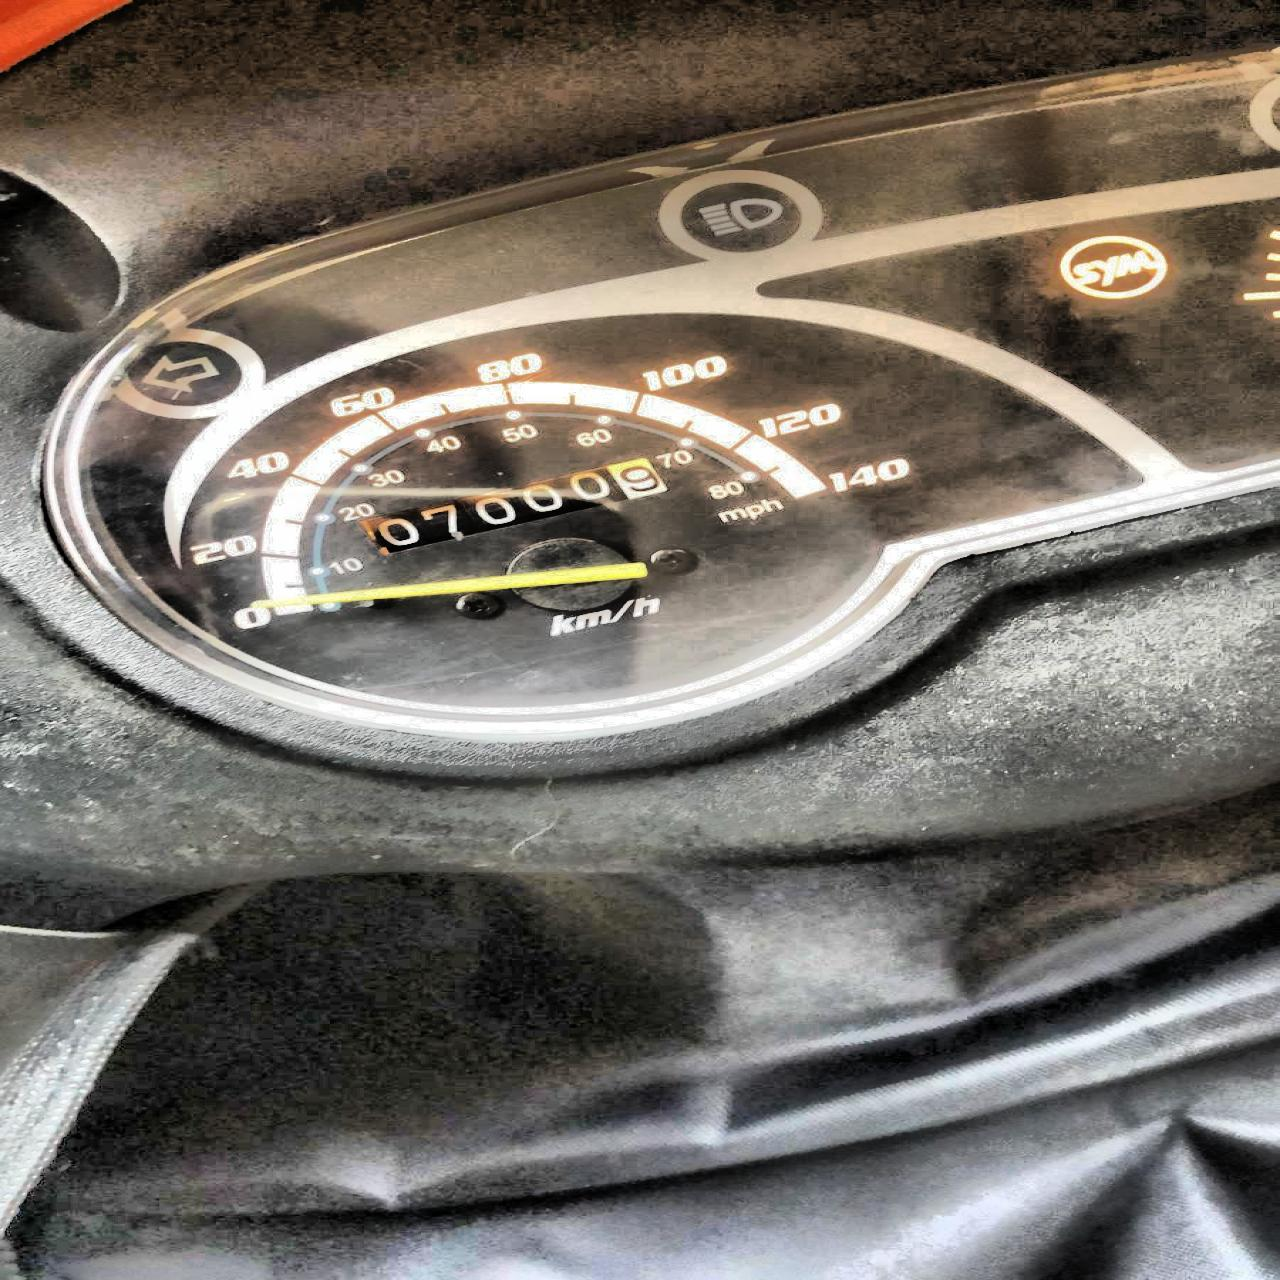0: (469, 495, 515, 525), (523, 482, 565, 515), (374, 517, 421, 546), (567, 471, 611, 501), (353, 502, 374, 517), (384, 468, 404, 483)
3: (365, 471, 387, 486)
7: (416, 503, 463, 535), (653, 452, 673, 469)
9: (618, 464, 661, 495)
odometer: (353, 456, 675, 556)
